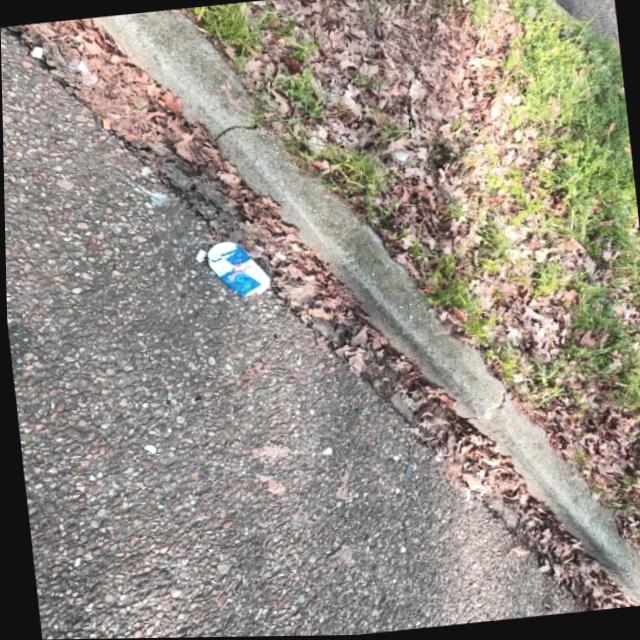Can-Metal: (203, 238, 271, 302)
Paper: (191, 248, 206, 264)
